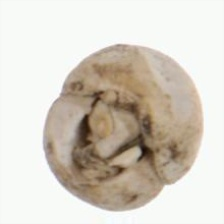L3: (81, 90, 152, 170)
L4: (41, 44, 204, 211)
